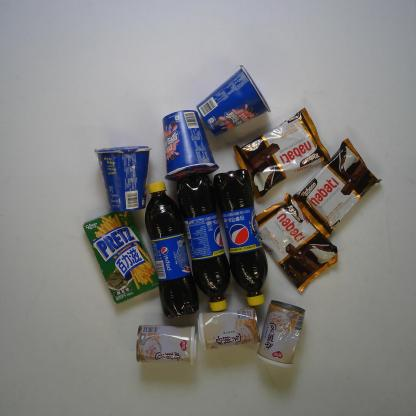Canned Food: (253, 299, 308, 371), (196, 305, 262, 354), (134, 322, 200, 367)
Dessert: (232, 106, 333, 201), (290, 137, 384, 239), (254, 192, 341, 295), (81, 207, 160, 307), (194, 63, 272, 138), (92, 142, 153, 214), (161, 108, 221, 181)
Drink: (212, 166, 270, 308), (143, 180, 201, 320), (174, 171, 231, 313)
